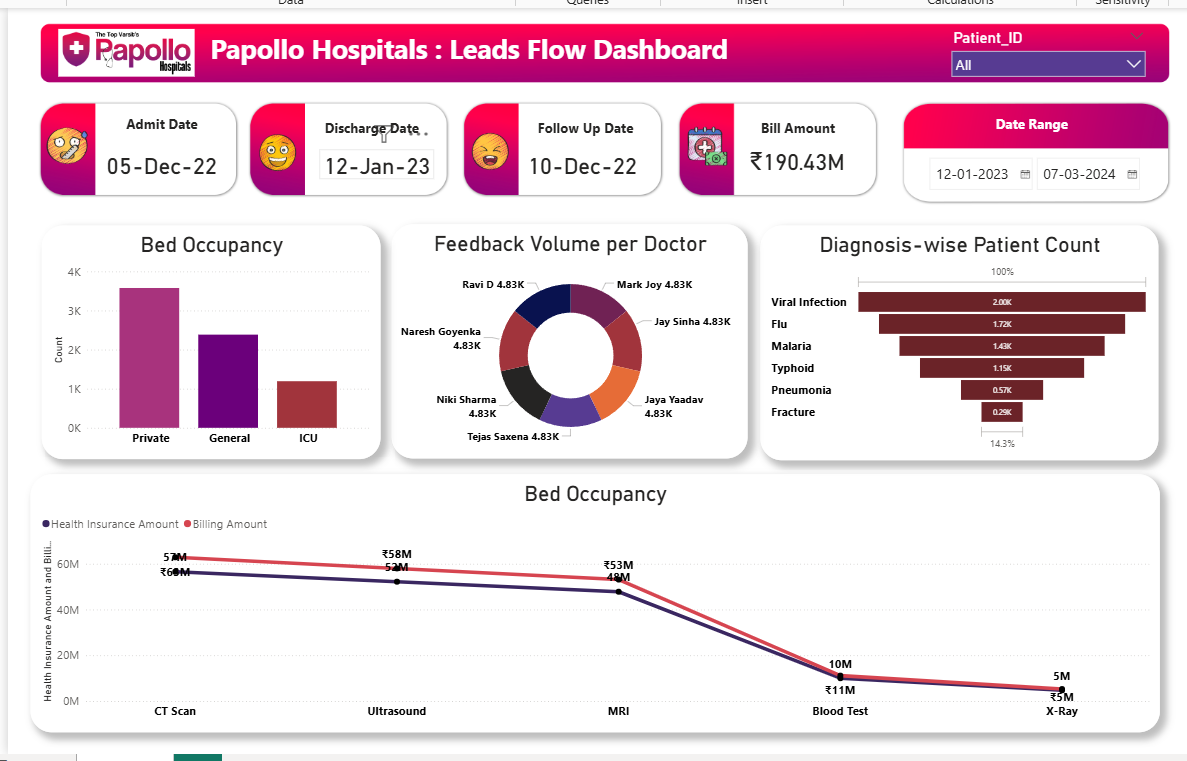

The dashboard page shown, as its layout file describes it:
{"tool":"powerbi","page":{"name":"Page 2","canvas":[1680,1050],"ordinal":0},"visuals":[{"type":"textbox","box":[280,27.1,755.7,74.3],"z":0},{"type":"image","box":[2636.7,100,623.3,150],"z":1000},{"type":"slicer","fields":{"Values":["Sheet1.Patient_ID"]},"box":[2400,373.3,793.3,420],"z":2000},{"type":"card","fields":{"Values":["Min(Sheet1.Admit_Date)"]},"box":[437.6,198.8,162.9,42.8],"z":3000},{"type":"card","fields":{"Values":["Min(Sheet1.Discharge_Date)"]},"box":[129.8,198.8,172.6,42.8],"z":4000},{"type":"card","fields":{"Values":["Min(Sheet1.Followup Date)"]},"box":[724.3,198.6,167.1,42.9],"z":5000},{"type":"textbox","box":[152.9,145.7,127.1,57.1],"z":6000},{"type":"textbox","box":[437.1,151.4,151.4,37.1],"z":7000},{"type":"textbox","box":[732.9,151.4,158.6,37.1],"z":8000},{"type":"textbox","box":[1035.7,151.4,151.4,37.1],"z":9000},{"type":"card","fields":{"Values":["Sum(Sheet1.Billing Amount)"]},"box":[1031.4,194.3,158.6,42.9],"z":10000},{"type":"image","box":[50,157.1,68.6,74.3],"z":11000},{"type":"image","box":[348.6,172.9,62.9,62.9],"z":12000},{"type":"image","box":[640,171.4,77.1,62.9],"z":13000},{"type":"image","box":[951.4,158.6,65.7,71.4],"z":14000},{"type":"columnChart","title":"Bed Occupancy","fields":{"Category":["Sheet1.Bed_Occupancy"],"Y":["CountNonNull(Sheet1.Bed_Occupancy)"]},"box":[47.1,305.7,477.1,328.6],"z":15000},{"type":"donutChart","title":"Feedback Volume per Doctor","fields":{"Category":["Sheet1.Doctor"],"Y":["Sum(Sheet1.Feedback)"]},"box":[540.2,305.2,501,329.5],"z":16000},{"type":"funnel","title":"Diagnosis-wise Patient Count","fields":{"Category":["Sheet1.Diagnosis"],"Y":["CountNonNull(Sheet1.Diagnosis)"]},"box":[1060,305.7,560,330],"z":17000},{"type":"image","box":[30,24.3,274.3,77.1],"z":18000},{"type":"lineChart","title":"Bed Occupancy","fields":{"Y":["Sum(Sheet1.Health Insurance Amount)","Sum(Sheet1.Billing Amount)"],"Category":["Sheet1.Test"]},"box":[31.1,656.3,1589.5,363.3],"z":19000},{"type":"slicer","fields":{"Values":["Sheet1.Admit_Date"]},"box":[1284.3,201.2,360.6,68.9],"z":20000},{"type":"slicer","fields":{"Values":["Sheet1.Patient_ID"]},"box":[1317.1,24.3,292.9,82.9],"z":21000},{"type":"textbox","box":[1365.7,145.7,151.4,37.1],"z":22000}]}

Visuals, with their boxes on the page's 1680x1050 design canvas (x1, y1, x2, y2). These are canvas units, not pixel positions in the 1187x761 screenshot, which may show the page scaled, cropped or inside an application window:
textbox: detection(280, 27, 1036, 101)
image: detection(2637, 100, 3260, 250)
slicer - Sheet1.Patient_ID: detection(2400, 373, 3193, 793)
card - Min(Sheet1.Admit_Date): detection(438, 199, 600, 242)
card - Min(Sheet1.Discharge_Date): detection(130, 199, 302, 242)
card - Min(Sheet1.Followup Date): detection(724, 199, 891, 242)
textbox: detection(153, 146, 280, 203)
textbox: detection(437, 151, 588, 188)
textbox: detection(733, 151, 892, 188)
textbox: detection(1036, 151, 1187, 188)
card - Sum(Sheet1.Billing Amount): detection(1031, 194, 1190, 237)
image: detection(50, 157, 119, 231)
image: detection(349, 173, 412, 236)
image: detection(640, 171, 717, 234)
image: detection(951, 159, 1017, 230)
"Bed Occupancy" columnChart: detection(47, 306, 524, 634)
"Feedback Volume per Doctor" donutChart: detection(540, 305, 1041, 635)
"Diagnosis-wise Patient Count" funnel: detection(1060, 306, 1620, 636)
image: detection(30, 24, 304, 101)
"Bed Occupancy" lineChart: detection(31, 656, 1621, 1020)
slicer - Sheet1.Admit_Date: detection(1284, 201, 1645, 270)
slicer - Sheet1.Patient_ID: detection(1317, 24, 1610, 107)
textbox: detection(1366, 146, 1517, 183)
